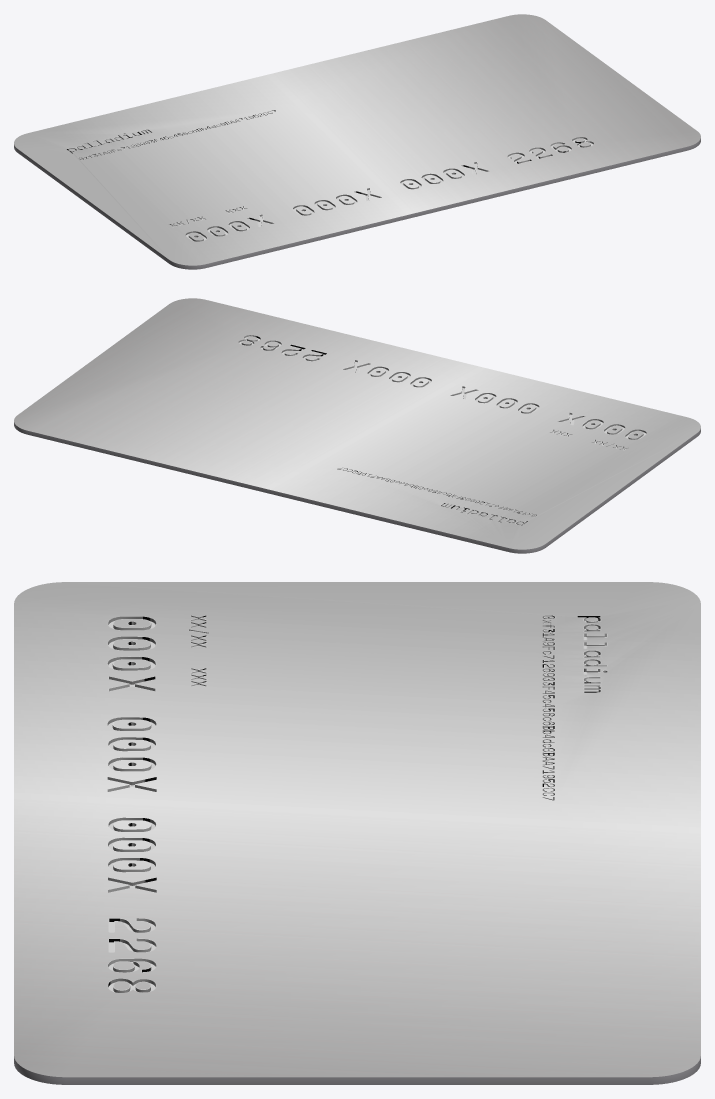
Rendered from palladium_card.glb.
3 renders of one model, top to bottom at view 1: azimuth 30°, elevation 25°; view 2: azimuth 150°, elevation 25°; view 3: azimuth 270°, elevation 25°, orthographic. The views are drawn at different scales.
Visible parts, largest first — view 1: Card; view 2: Card; view 3: Card, CardNum2 Text.
Boxes of the visible parts, x1,y1,x2,y2 form: Card: [14, 14, 700, 269]; Card: [14, 298, 700, 553]; Card: [14, 582, 700, 1084]; CardNum2 Text: [108, 722, 155, 992].
Size of the model in its own units: 10.38 by 0.0754 by 6.09.
Materials: 2 (1 with a texture image).
